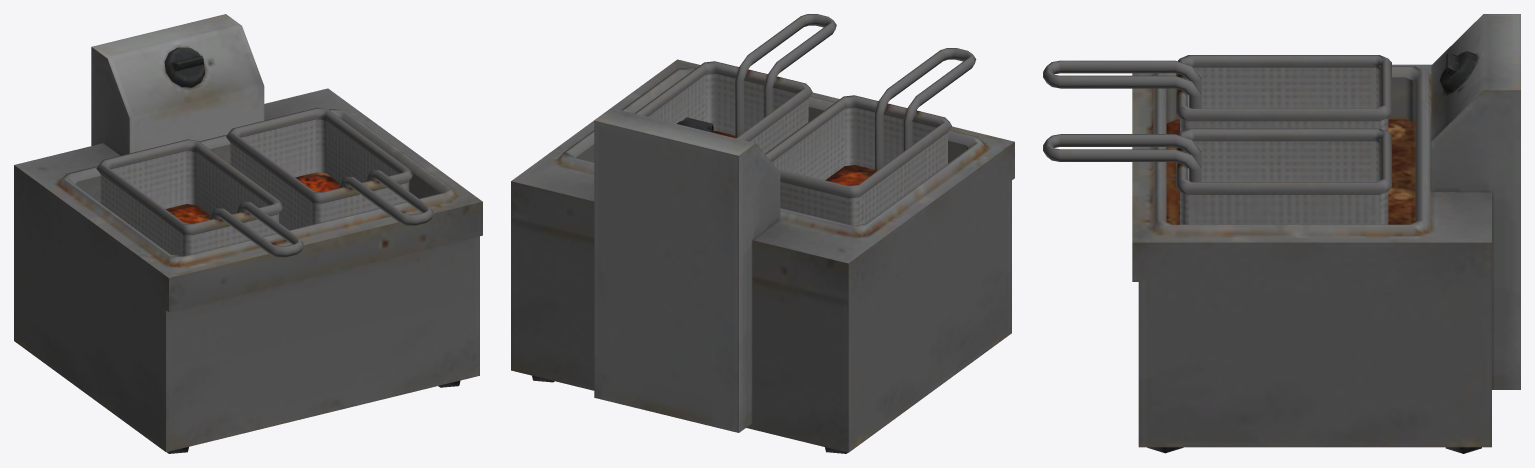
Rendered from sm24_004_flyer_00.fbx.
3 views of the same model, side by side, from view 1: azimuth 30°, elevation 25°; view 2: azimuth 150°, elevation 25°; view 3: azimuth 270°, elevation 25° (orthographic). The views are drawn at different scales.
Parts seen in each view (by area): view 1: LOD_1_Group_1_Sub_1__sm24_004_Flyer_A_Mat__Env_default, LOD_1_Group_4_Sub_1__sm24_004_Flyer_A_Mat2__Env_AlphaTest, LOD_1_Group_2_Sub_1__sm24_004_Flyer_A_Mat__Env_default, LOD_1_Group_3_Sub_1__sm24_004_Flyer_A_Mat__Env_default, LOD_1_Group_5_Sub_1__sm24_004_Flyer_A_Mat__Env_default; view 2: LOD_1_Group_1_Sub_1__sm24_004_Flyer_A_Mat__Env_default, LOD_1_Group_2_Sub_1__sm24_004_Flyer_A_Mat__Env_default, LOD_1_Group_4_Sub_1__sm24_004_Flyer_A_Mat2__Env_AlphaTest, LOD_1_Group_5_Sub_1__sm24_004_Flyer_A_Mat__Env_default; view 3: LOD_1_Group_1_Sub_1__sm24_004_Flyer_A_Mat__Env_default, LOD_1_Group_4_Sub_1__sm24_004_Flyer_A_Mat2__Env_AlphaTest, LOD_1_Group_2_Sub_1__sm24_004_Flyer_A_Mat__Env_default, LOD_1_Group_5_Sub_1__sm24_004_Flyer_A_Mat__Env_default, LOD_1_Group_3_Sub_1__sm24_004_Flyer_A_Mat__Env_default.
Boxes of the visible parts, left/top/right/bottom form: LOD_1_Group_1_Sub_1__sm24_004_Flyer_A_Mat__Env_default: left=14, top=88, right=482, bottom=452; LOD_1_Group_4_Sub_1__sm24_004_Flyer_A_Mat2__Env_AlphaTest: left=96, top=107, right=433, bottom=257; LOD_1_Group_2_Sub_1__sm24_004_Flyer_A_Mat__Env_default: left=91, top=14, right=264, bottom=155; LOD_1_Group_3_Sub_1__sm24_004_Flyer_A_Mat__Env_default: left=164, top=47, right=204, bottom=87; LOD_1_Group_5_Sub_1__sm24_004_Flyer_A_Mat__Env_default: left=165, top=172, right=339, bottom=223; LOD_1_Group_1_Sub_1__sm24_004_Flyer_A_Mat__Env_default: left=511, top=59, right=1014, bottom=452; LOD_1_Group_2_Sub_1__sm24_004_Flyer_A_Mat__Env_default: left=594, top=108, right=780, bottom=432; LOD_1_Group_4_Sub_1__sm24_004_Flyer_A_Mat2__Env_AlphaTest: left=634, top=14, right=976, bottom=225; LOD_1_Group_5_Sub_1__sm24_004_Flyer_A_Mat__Env_default: left=713, top=131, right=874, bottom=185; LOD_1_Group_1_Sub_1__sm24_004_Flyer_A_Mat__Env_default: left=1132, top=64, right=1491, bottom=447; LOD_1_Group_4_Sub_1__sm24_004_Flyer_A_Mat2__Env_AlphaTest: left=1043, top=55, right=1391, bottom=224; LOD_1_Group_2_Sub_1__sm24_004_Flyer_A_Mat__Env_default: left=1431, top=14, right=1520, bottom=389; LOD_1_Group_5_Sub_1__sm24_004_Flyer_A_Mat__Env_default: left=1166, top=119, right=1415, bottom=224; LOD_1_Group_3_Sub_1__sm24_004_Flyer_A_Mat__Env_default: left=1439, top=51, right=1478, bottom=94.
Size of the model in its own units: 0.5862 by 0.4855 by 0.6647.
